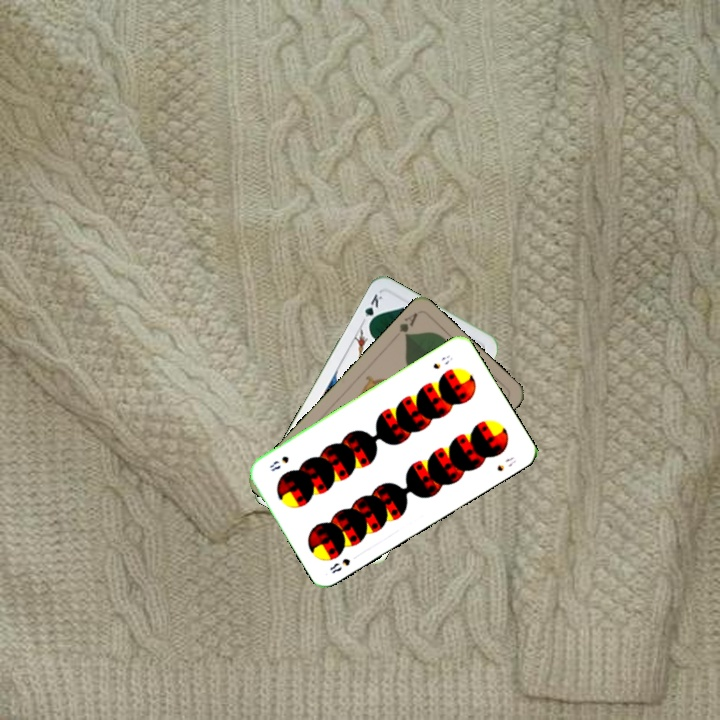GA: (395, 308, 420, 341)
GK: (361, 290, 385, 329)
S8: (325, 554, 353, 576), (429, 351, 455, 372)
